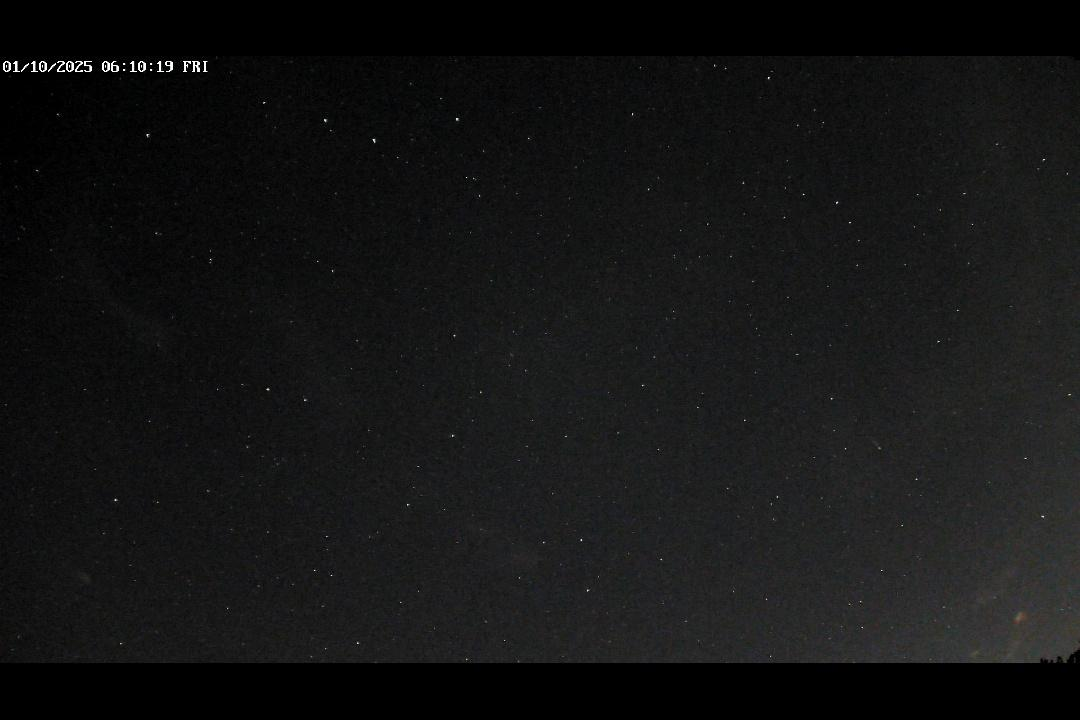Plane: (867, 434, 886, 456)
